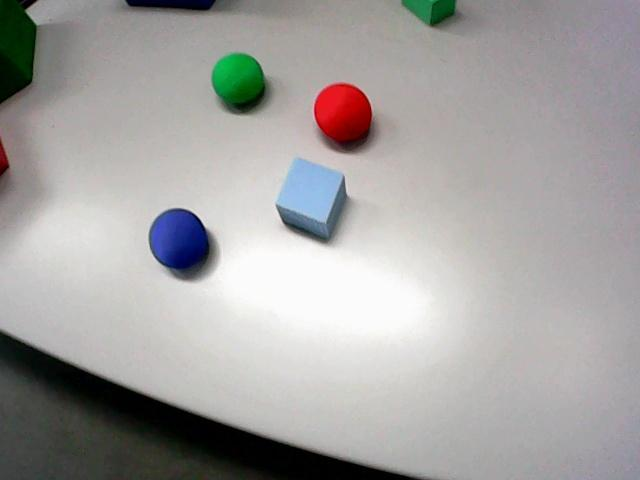blue_block: (276, 158, 346, 238), (126, 0, 214, 9)
red_block: (0, 139, 8, 174)
